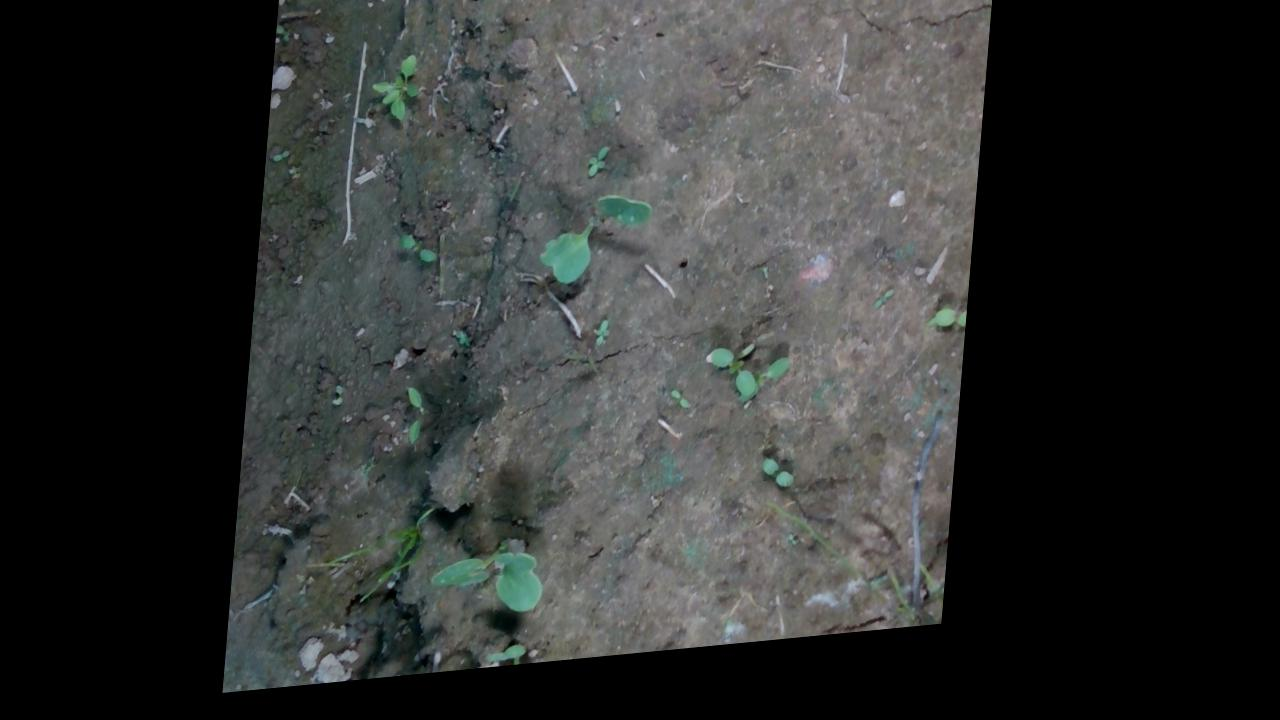weed: (763, 469, 810, 525), (403, 391, 439, 457), (587, 145, 619, 192), (592, 321, 623, 369), (404, 244, 447, 270), (875, 301, 905, 335), (673, 397, 708, 422)
